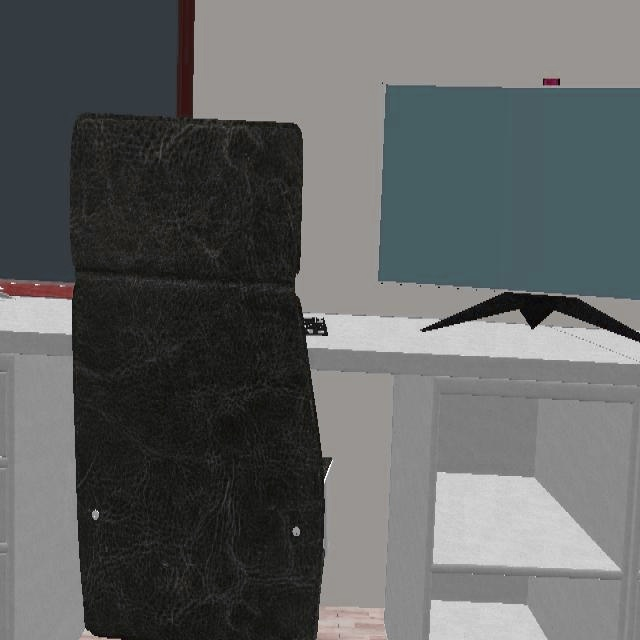monitor: (379, 84, 640, 303)
shelf: (384, 376, 640, 640)
table: (307, 315, 640, 383), (0, 297, 70, 353)
